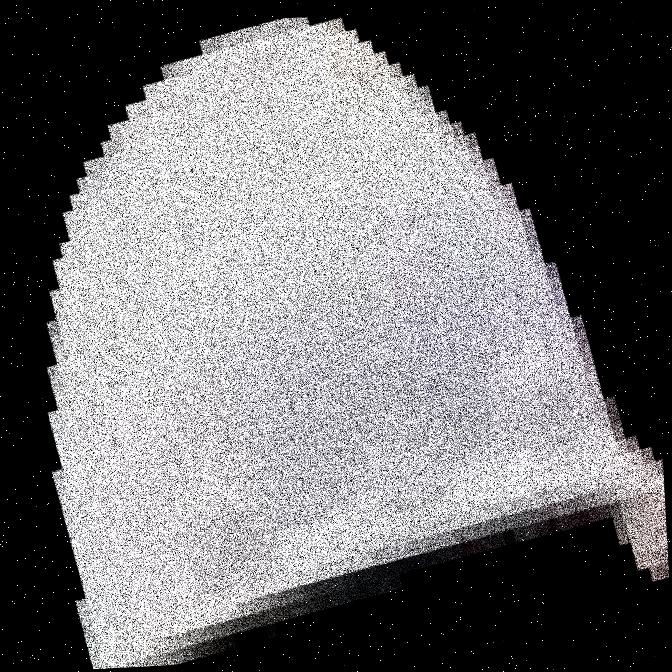Capacete: (136, 0, 455, 671)
